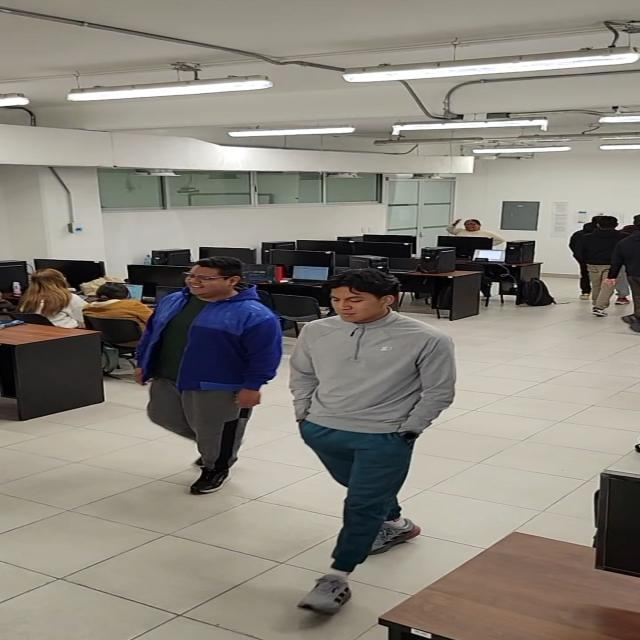Persona: (304, 272, 442, 579), (144, 260, 249, 489), (571, 212, 622, 312), (426, 215, 508, 246)
